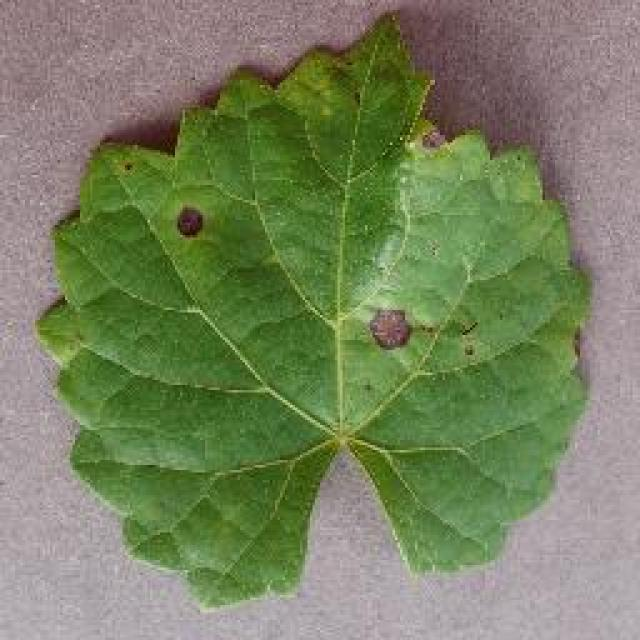Grape___Black_rot: (31, 7, 597, 617)
